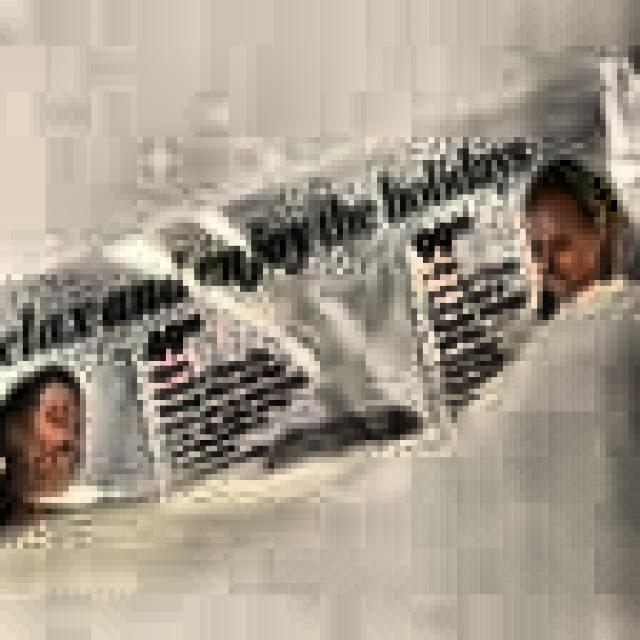paper: (0, 38, 640, 558)
